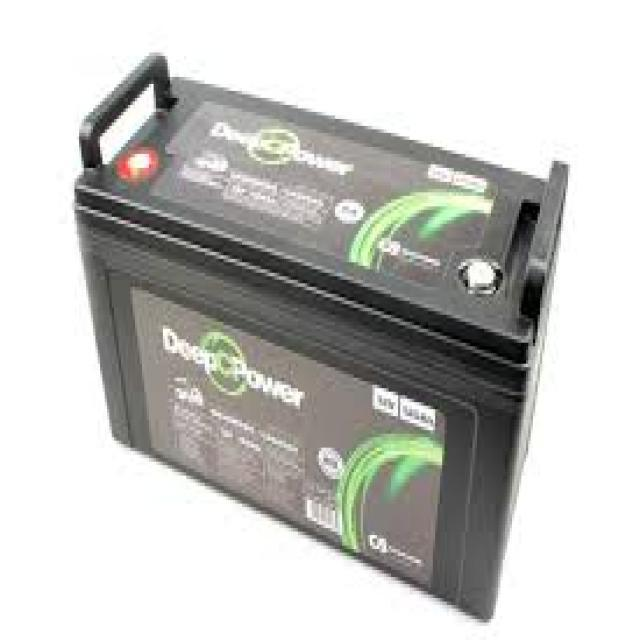battery: (76, 42, 572, 622)
